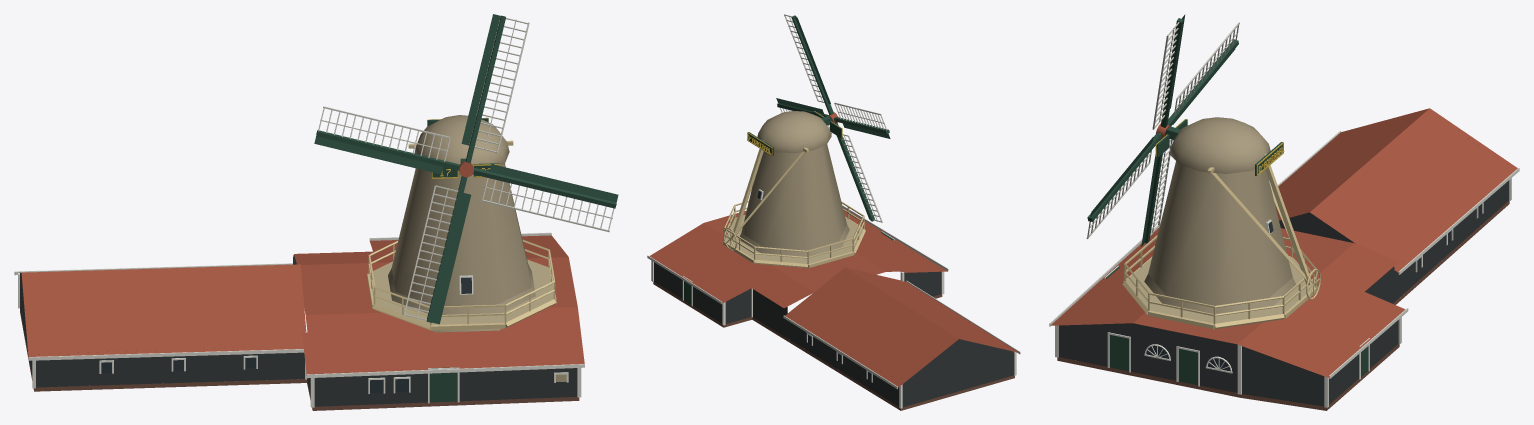
File: d-admiraal.glb
3 views of the same model, side by side, from view 1: azimuth 30°, elevation 25°; view 2: azimuth 150°, elevation 25°; view 3: azimuth 270°, elevation 25° (orthographic). The views are drawn at different scales.
Visible parts, largest first — view 1: d-admiraal; view 2: d-admiraal; view 3: d-admiraal.
Boxes of the visible parts, x1,y1,x2,y2 form: d-admiraal: (14, 14, 618, 410); d-admiraal: (647, 14, 1020, 410); d-admiraal: (1049, 14, 1519, 410).
Size of the model in its own units: 33.11 by 21.02 by 26.61.
